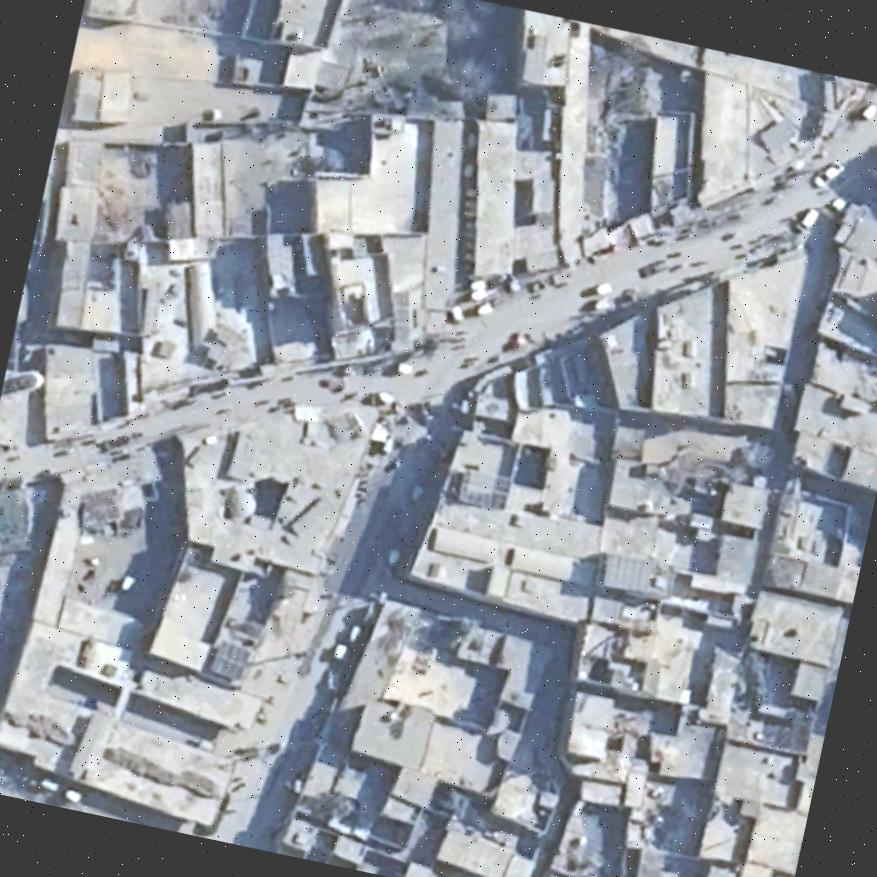Solarpanel: (448, 462, 512, 511), (204, 636, 255, 685), (605, 549, 654, 590)
